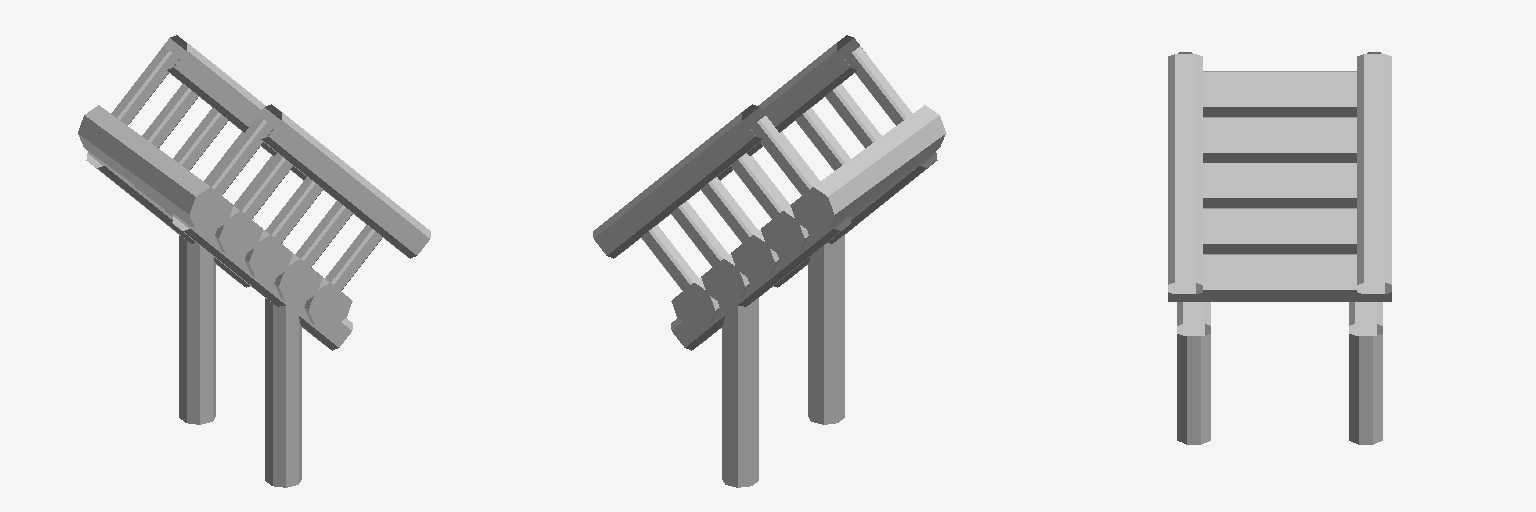
File: Track_Bridge_Incline_Sharp_Supported.obj
3 renders of one model, left to right at view 1: azimuth 30°, elevation 25°; view 2: azimuth 150°, elevation 25°; view 3: azimuth 270°, elevation 25°, orthographic.
Parts seen in each view (by area): view 1: Bridge_Pier, Bridge_Rail_Support, Bridge_Rail, Log_Plank_Bark, Log_Plank_End, Bridge_Support_Beam; view 2: Bridge_Pier, Bridge_Rail_Support, Bridge_Rail, Log_Plank_Bark, Log_Plank_End, Bridge_Support_Beam; view 3: Log_Plank_Top, Bridge_Rail, Log_Plank_Bark, Bridge_Pier, Bridge_Support_Beam.
Boxes of the visible parts, box(x1,y1,x2,y2) form: Bridge_Pier: box(179, 235, 301, 487); Bridge_Rail_Support: box(111, 46, 382, 290); Bridge_Rail: box(158, 35, 430, 258); Log_Plank_Bark: box(78, 105, 329, 324); Log_Plank_End: box(190, 187, 352, 327); Bridge_Support_Beam: box(86, 151, 352, 350); Bridge_Pier: box(722, 235, 844, 487); Bridge_Rail_Support: box(641, 46, 912, 290); Bridge_Rail: box(593, 35, 865, 258); Log_Plank_Bark: box(694, 105, 945, 324); Log_Plank_End: box(671, 187, 833, 327); Bridge_Support_Beam: box(671, 151, 937, 350); Log_Plank_Top: box(1203, 72, 1356, 289); Bridge_Rail: box(1168, 54, 1391, 293); Log_Plank_Bark: box(1168, 71, 1391, 301); Bridge_Pier: box(1177, 334, 1382, 444); Bridge_Support_Beam: box(1177, 302, 1382, 335).
Bounding box in the file's own units: 1.65 × 2.42 × 1.3.